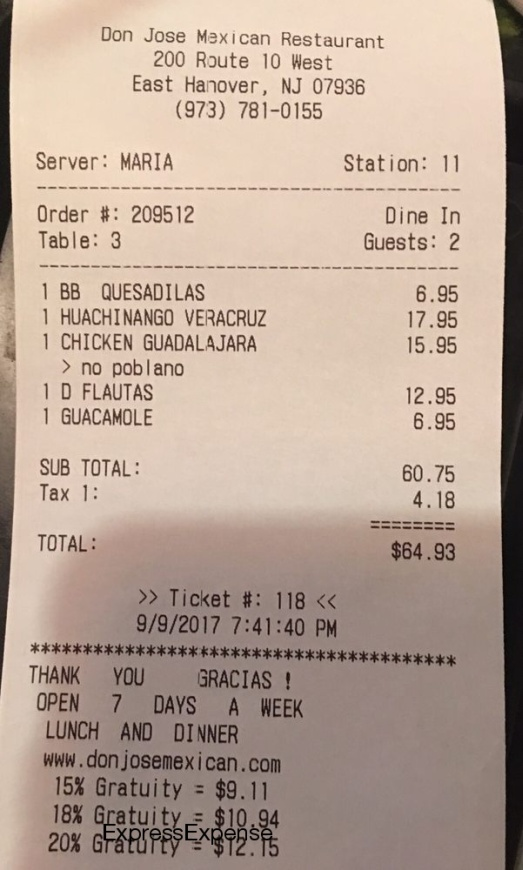Additional details: (4, 584, 477, 870)
Purchase summary: (10, 142, 487, 584)
Receipt: (1, 1, 503, 866)
Shop details: (88, 13, 404, 136)
